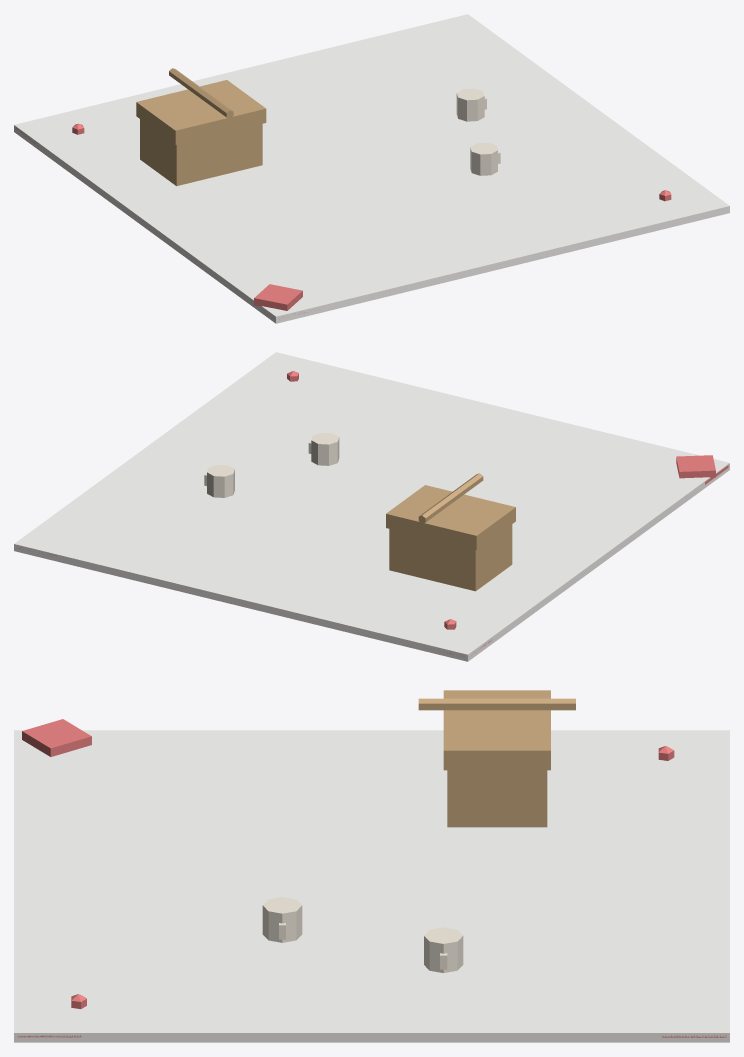
Rendered from picnic_blanket.glb.
The picture shows the model from 3 angles, top to bottom: view 1: azimuth 30°, elevation 25°; view 2: azimuth 150°, elevation 25°; view 3: azimuth 270°, elevation 25°; orthographic projection. The views are drawn at different scales.
Visible parts, largest first — view 1: PicnicBlanket; view 2: PicnicBlanket; view 3: PicnicBlanket.
Boxes of the visible parts, x1,y1,x2,y2 form: PicnicBlanket: [14, 14, 729, 323]; PicnicBlanket: [14, 352, 729, 661]; PicnicBlanket: [14, 690, 729, 1042].
Bounding box in the file's own units: 2.02 × 0.338 × 2.
